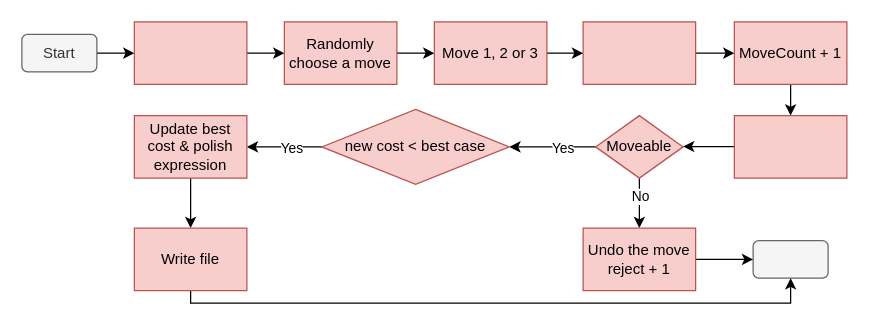
Image size: 869x335. Some labels were removed from this diagram. The box of each missing label's shape, as (x1, y1, x2, y2) in pixels:
Calculate current cost: (133, 21, 247, 84)
Calculate new cost: (582, 21, 696, 84)
Calculate probablity and delta cost: (733, 114, 847, 178)
End: (752, 239, 828, 278)
